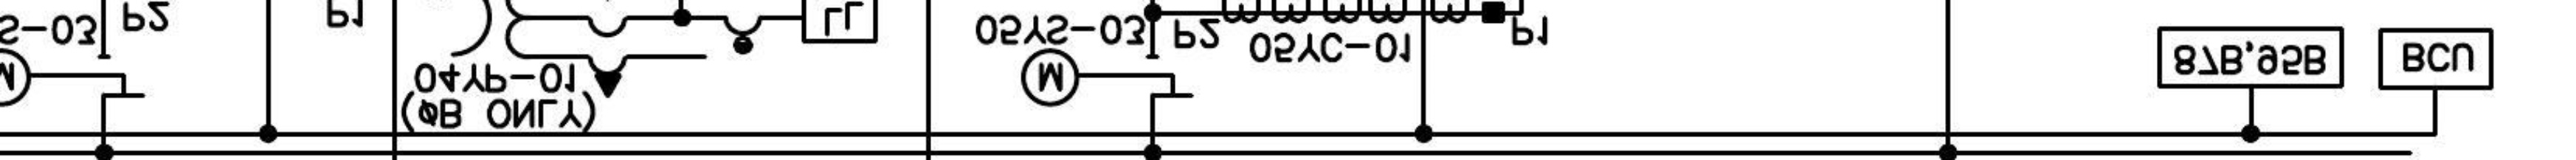115_1way_ds_w_motor: (1019, 46, 1196, 109)
BCU: (2377, 26, 2495, 91)
